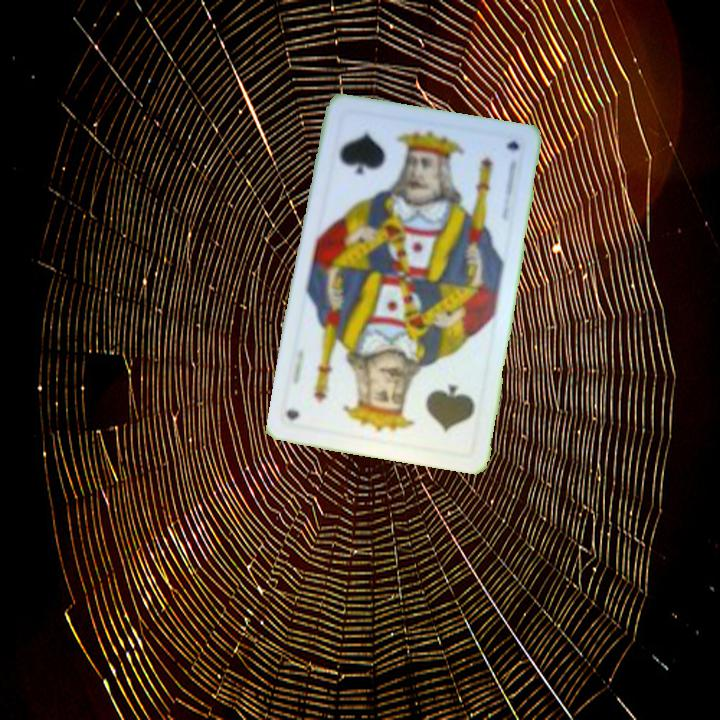s_k.png: (375, 357, 487, 457), (321, 109, 432, 209)
